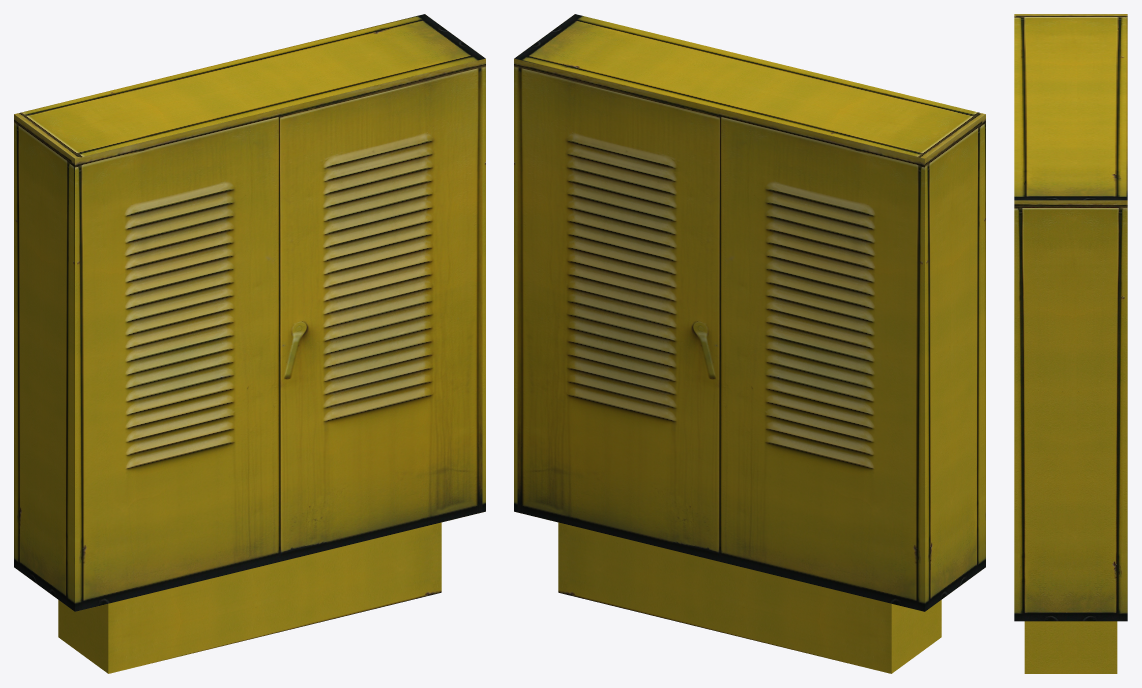
Rendered from vent_box1.fbx.
The picture shows the model from 3 angles, left to right: view 1: azimuth 30°, elevation 25°; view 2: azimuth 150°, elevation 25°; view 3: azimuth 270°, elevation 25°; orthographic projection. The views are drawn at different scales.
Visible parts, largest first — view 1: Mesh; view 2: Mesh; view 3: Mesh.
Boxes of the visible parts, left/top/right/bottom form: Mesh: left=14, top=14, right=485, bottom=673; Mesh: left=514, top=14, right=985, bottom=673; Mesh: left=1014, top=14, right=1127, bottom=673.
Bounding box in the file's own units: 74 × 91 × 19.
